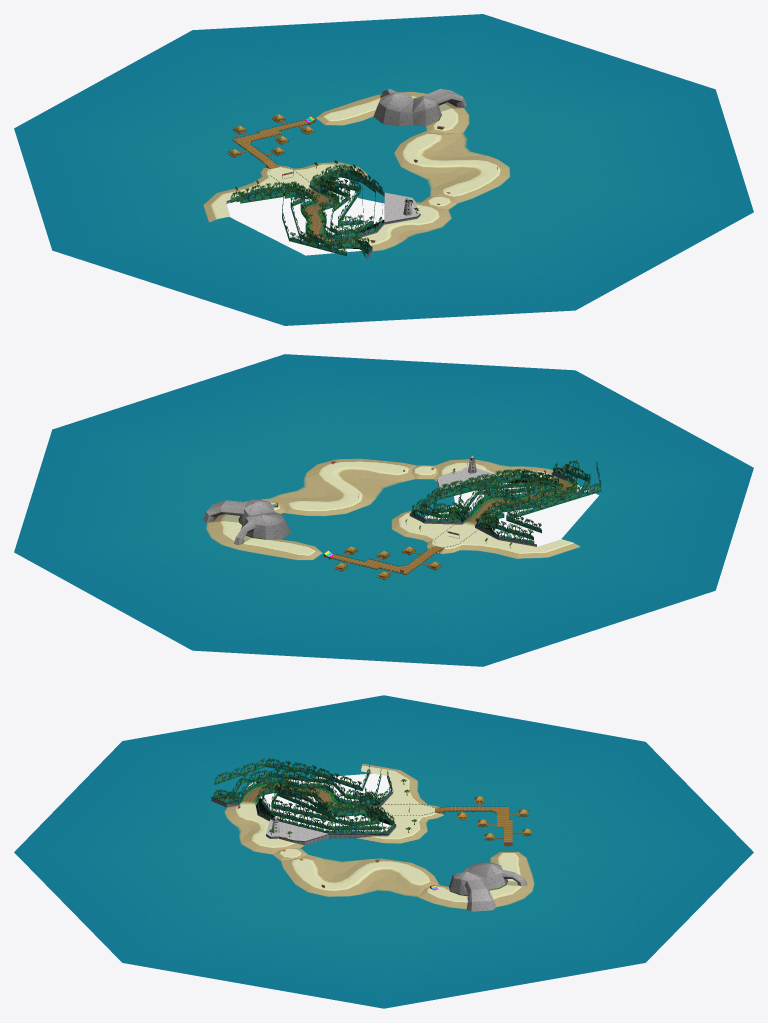
File: beach_courseD-beach_courseD.glb
3 renders of one model, top to bottom at view 1: azimuth 30°, elevation 25°; view 2: azimuth 150°, elevation 25°; view 3: azimuth 270°, elevation 25°, orthographic. The views are drawn at different scales.
Visible parts, largest first — view 1: beach_courseD; view 2: beach_courseD; view 3: beach_courseD.
Boxes of the visible parts, bbox=[...] form: beach_courseD: bbox=[14, 14, 753, 325]; beach_courseD: bbox=[14, 354, 753, 666]; beach_courseD: bbox=[14, 695, 753, 1008].
Size of the model in its own units: 862 by 28.81 by 862.
18 materials, 18 textured.
